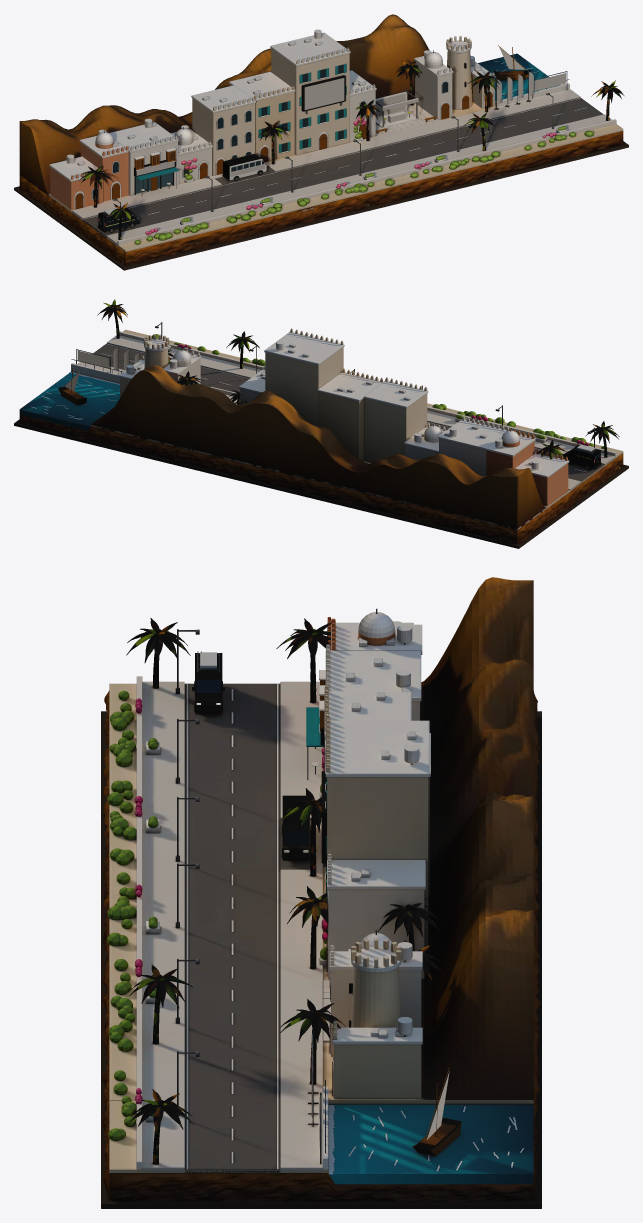
The model's file is muscat-street.glb.
3 renders of one model, top to bottom at view 1: azimuth 30°, elevation 25°; view 2: azimuth 150°, elevation 25°; view 3: azimuth 270°, elevation 25°, orthographic. The views are drawn at different scales.
Parts seen in each view (by area): view 1: static_base, static_street, static_stops, static_props, sea, canvas_3_led, van_body, canvas_4_stand_wall; view 2: static_base, static_street, sea, static_stops, static_props, van_body; view 3: static_base, static_street, sea, static_stops, static_props, van_body.
Part boxes in pixels (box(x1,y1,x2,y2)): static_base: box(14, 14, 628, 270); static_street: box(49, 29, 495, 209); static_stops: box(79, 61, 624, 239); static_props: box(113, 45, 593, 244); sea: box(478, 53, 569, 106); canvas_3_led: box(304, 78, 344, 109); van_body: box(97, 208, 139, 232); canvas_4_stand_wall: box(375, 94, 405, 116); static_base: box(14, 329, 628, 548); static_street: box(119, 328, 569, 506); sea: box(19, 359, 123, 430); static_stops: box(76, 299, 619, 459); static_props: box(58, 322, 607, 449); van_body: box(563, 444, 601, 469); static_base: box(101, 577, 541, 1208); static_street: box(319, 608, 430, 1098); sea: box(323, 1080, 533, 1184); static_stops: box(126, 618, 445, 1164); static_props: box(107, 629, 461, 1156); van_body: box(192, 651, 224, 714).
Size of the model in its own units: 87.1 by 18.8 by 32.2.
Materials: 24 (24 with a texture image).
